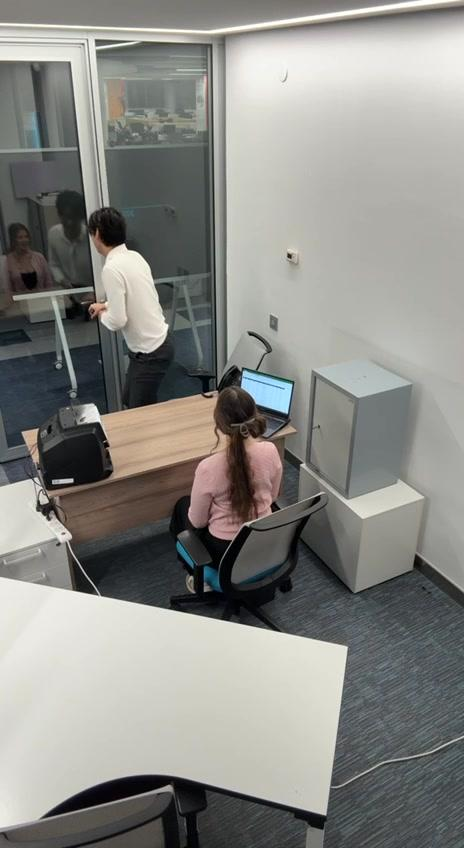counter: (37, 403, 114, 489)
key_in: (309, 423, 326, 439)
screen_on: (241, 368, 291, 414)
